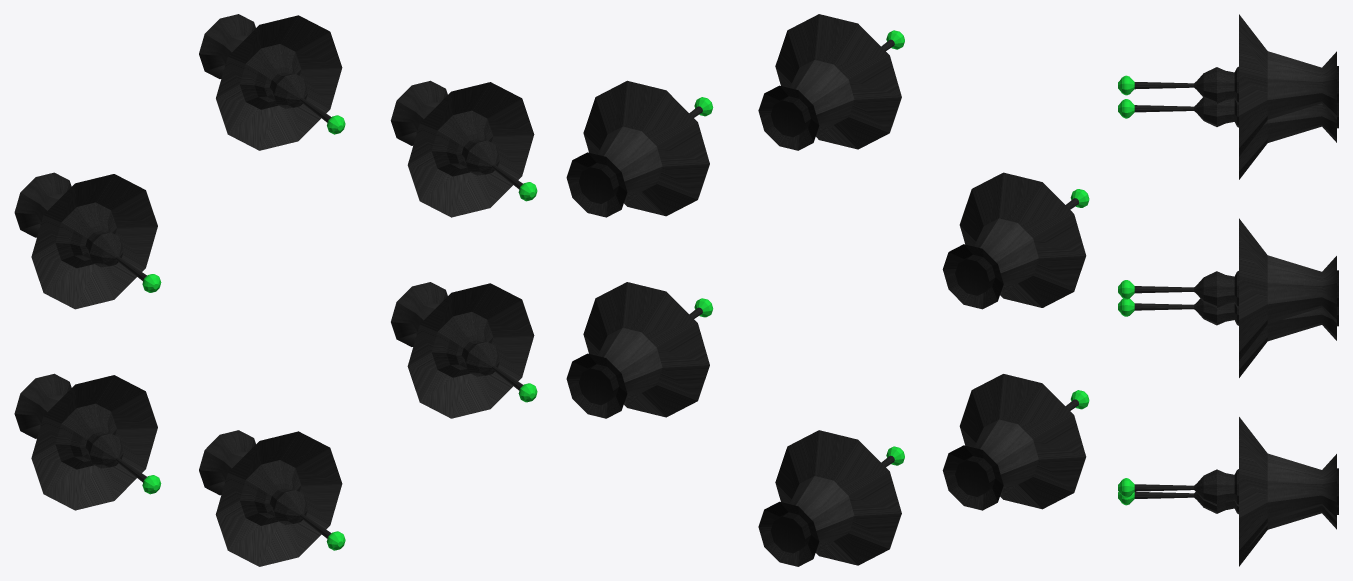
The model's file is Idle SubBoss.fbx.
3 views of the same model, side by side, from view 1: azimuth 30°, elevation 25°; view 2: azimuth 150°, elevation 25°; view 3: azimuth 270°, elevation 25° (orthographic).
Parts seen in each view (by area): view 1: pCylinder15, pCylinder20, pCylinder17, pCylinder18, pCylinder19, pCylinder16; view 2: pCylinder17, pCylinder15, pCylinder20, pCylinder18, pCylinder19, pCylinder16; view 3: pCylinder17, pCylinder18, pCylinder20, pCylinder19, pCylinder16, pCylinder15.
Part boxes in pixels (x1,y1,x2,y2): pCylinder15: (199,430,345,566); pCylinder20: (199,14,345,150); pCylinder17: (391,282,537,418); pCylinder18: (390,80,537,217); pCylinder19: (14,172,161,309); pCylinder16: (14,373,161,510); pCylinder17: (566,282,713,418); pCylinder15: (758,430,904,566); pCylinder20: (758,14,904,150); pCylinder18: (566,80,713,217); pCylinder19: (942,172,1089,309); pCylinder16: (942,374,1089,510); pCylinder17: (1118,417,1338,558); pCylinder18: (1118,218,1338,360); pCylinder20: (1118,14,1338,156); pCylinder19: (1118,97,1338,179); pCylinder16: (1118,298,1338,377); pCylinder15: (1118,491,1338,566).
Size of the model in its own units: 10.69 by 11.01 by 4.13.
2 materials, 1 textured.
